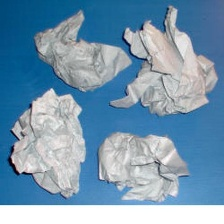tissue: (104, 1, 221, 121), (3, 83, 90, 202), (28, 3, 136, 95), (92, 127, 193, 204)
